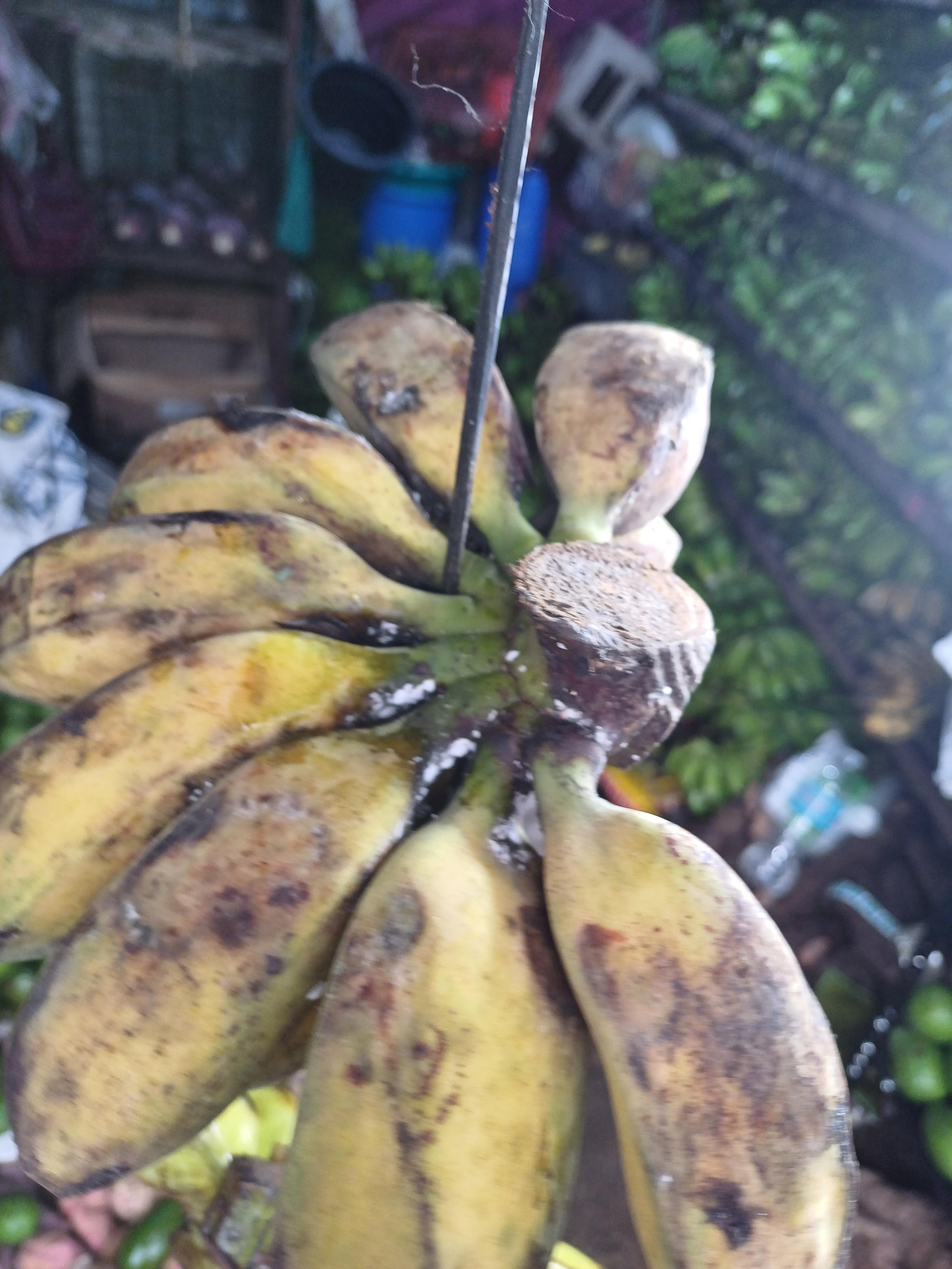ripe: (0, 302, 850, 1269)
